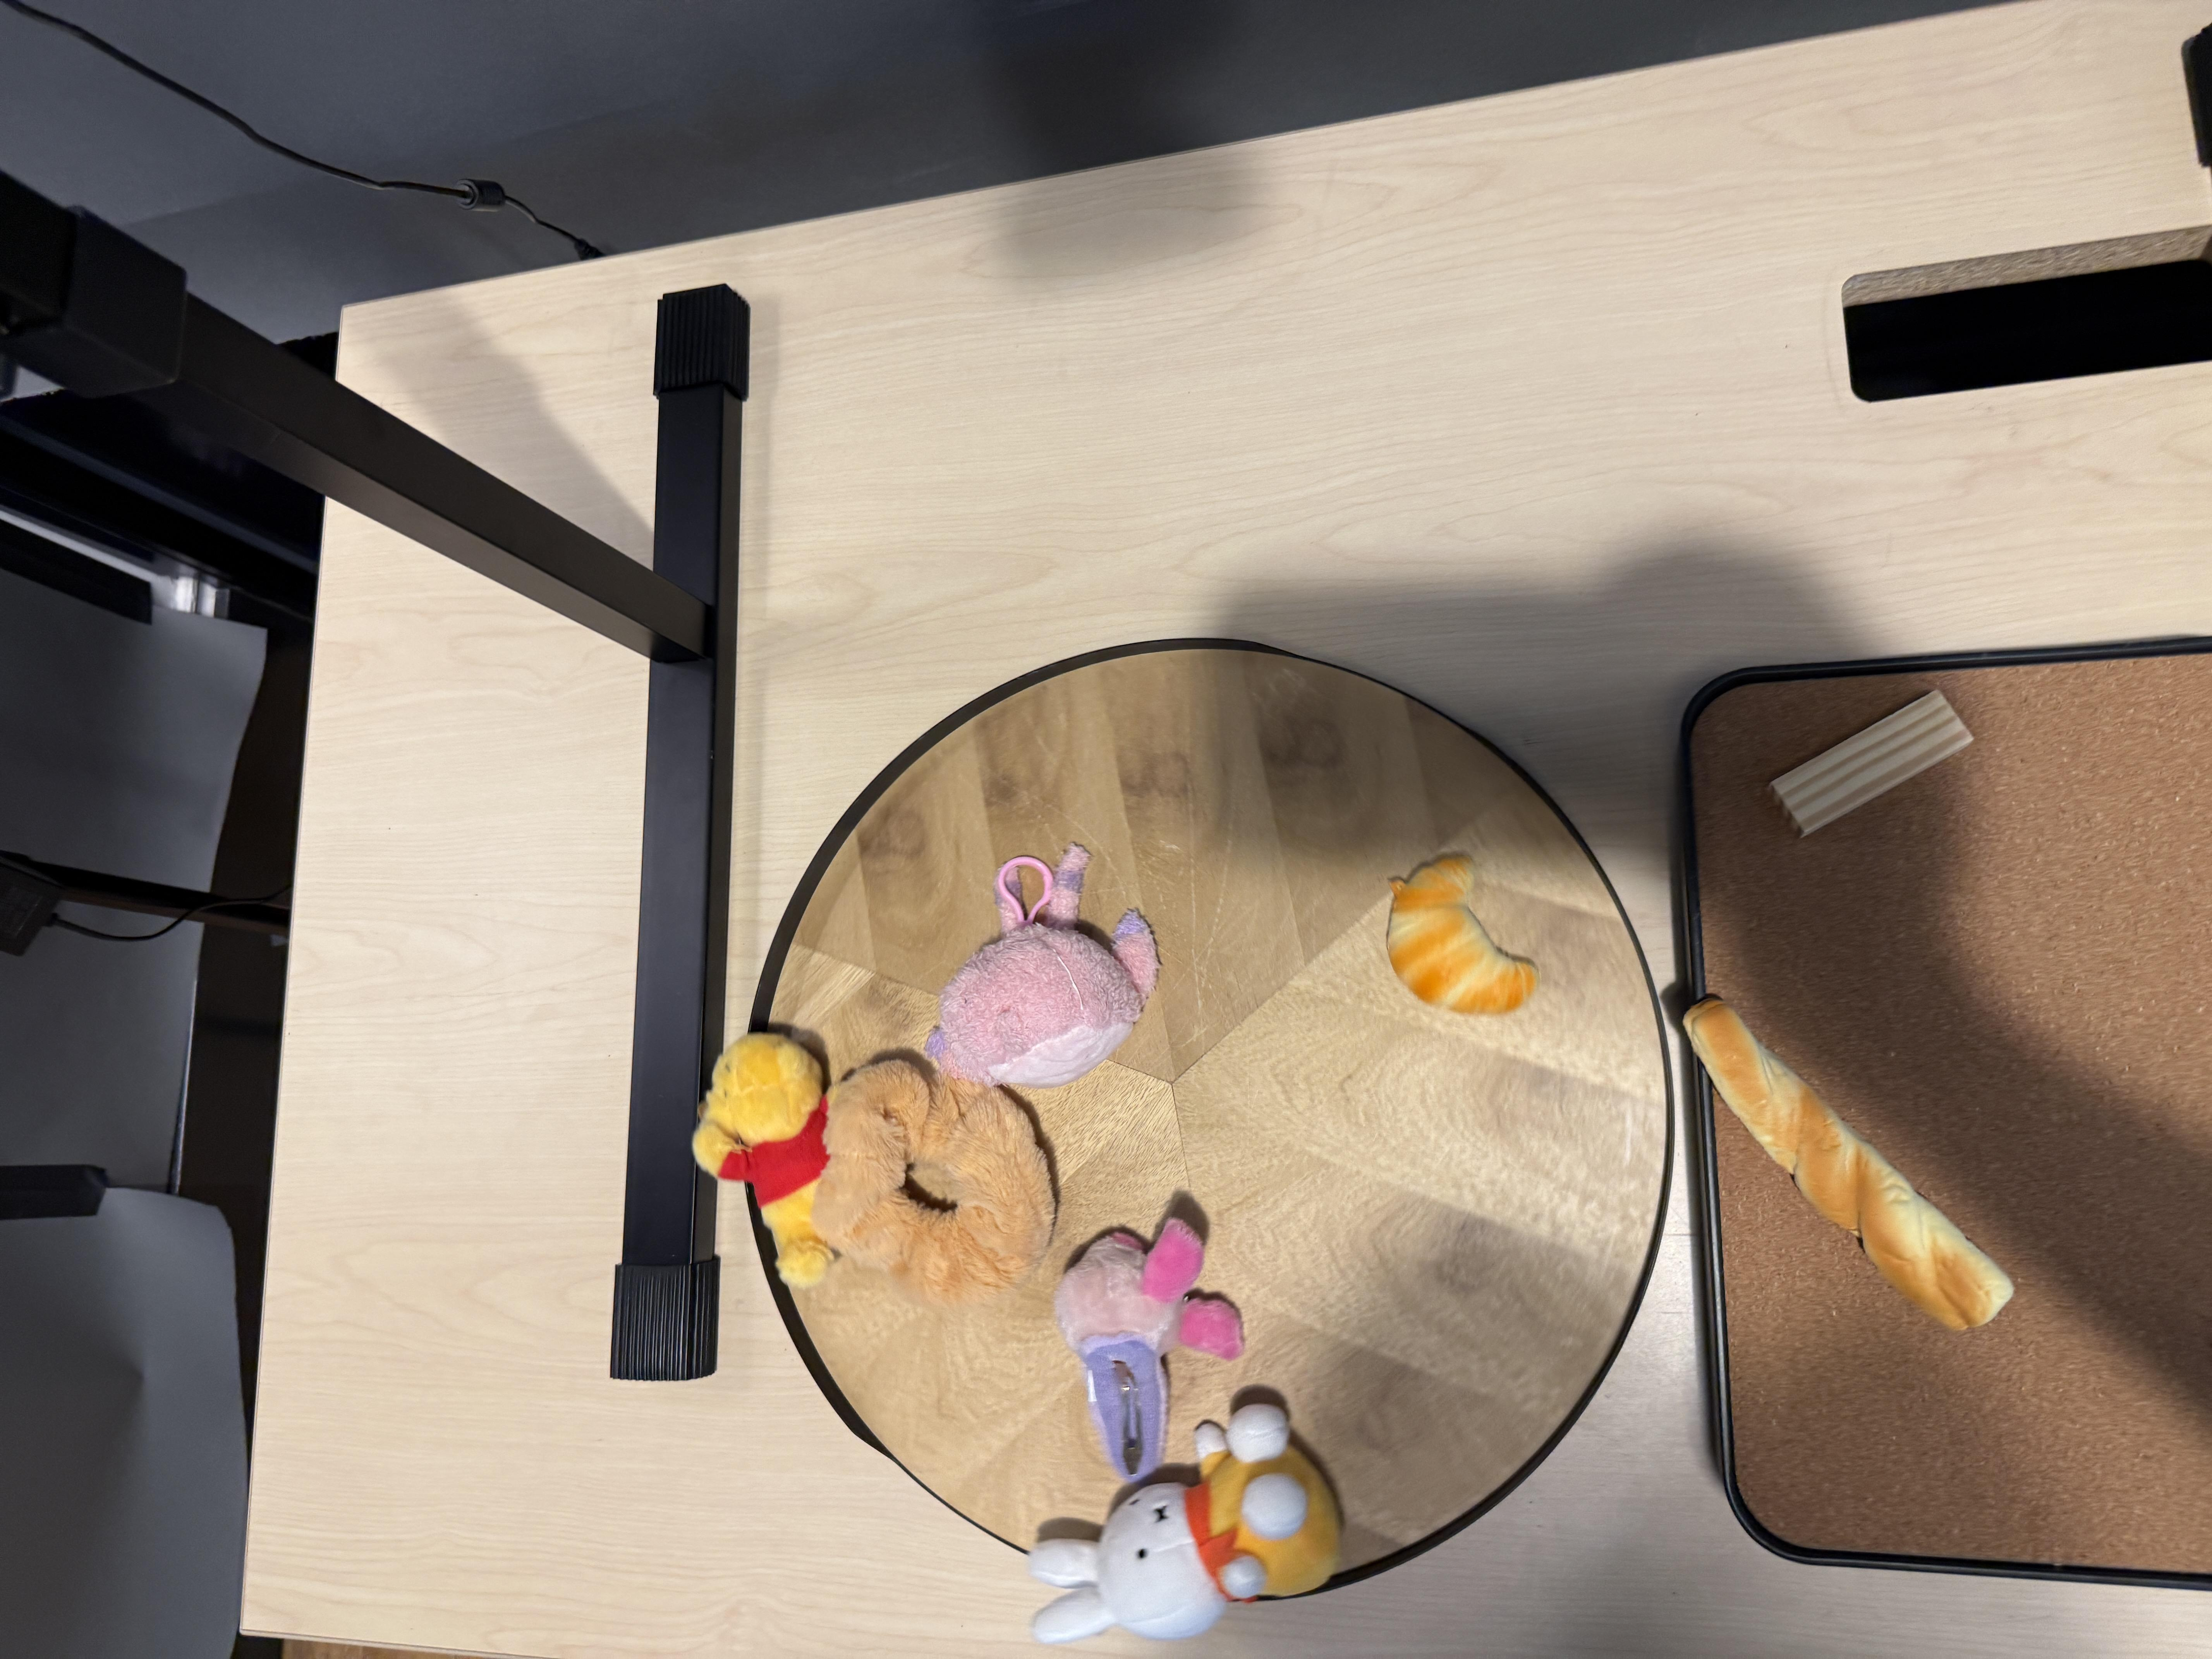block: (1766, 690, 1979, 836)
bread: (1684, 997, 2017, 1330), (1390, 849, 1540, 1019)
doll: (695, 1030, 1059, 1302), (1033, 1408, 1348, 1659), (928, 850, 1163, 1087), (1057, 1215, 1244, 1480)
